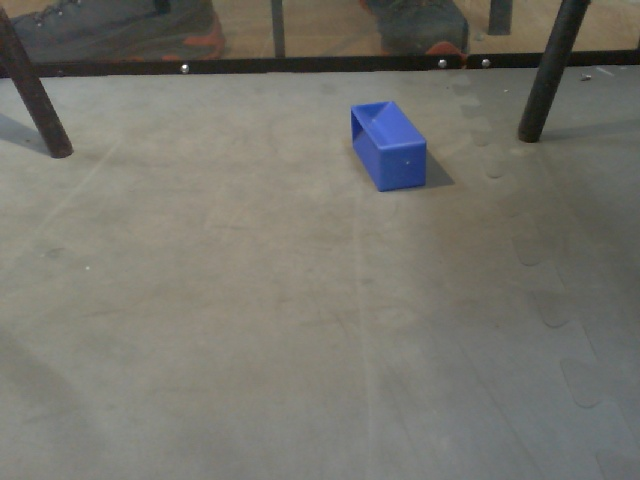BlueSample: (346, 97, 429, 195)
